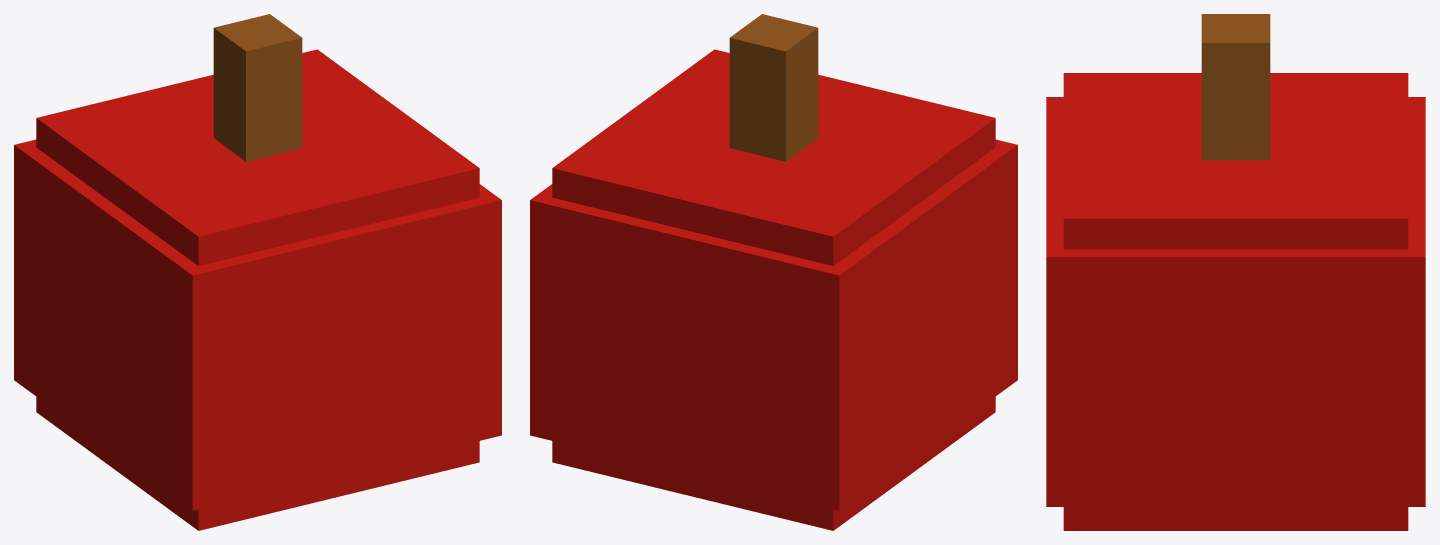
The model's file is apple.fbx.
The picture shows the model from 3 angles, left to right: view 1: azimuth 30°, elevation 25°; view 2: azimuth 150°, elevation 25°; view 3: azimuth 270°, elevation 25°; orthographic projection. The views are drawn at different scales.
Visible parts, largest first — view 1: apple; view 2: apple; view 3: apple.
Part boxes in pixels (bbox=[...]): apple: bbox=[14, 14, 501, 530]; apple: bbox=[530, 14, 1017, 530]; apple: bbox=[1046, 14, 1425, 530].
Size of the model in its own units: 22 by 27.5 by 22.
